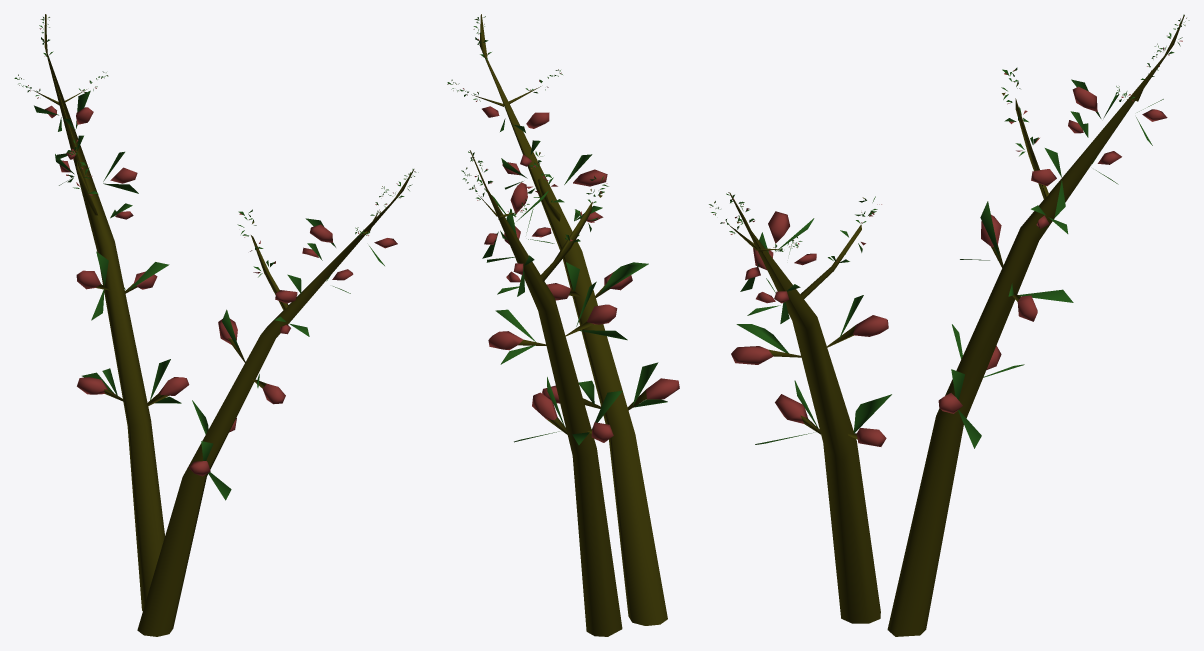
File: SM_Catuaba_001_LOD4.fbx
The picture shows the model from 3 angles, left to right: view 1: azimuth 30°, elevation 25°; view 2: azimuth 150°, elevation 25°; view 3: azimuth 270°, elevation 25°; orthographic projection. The views are drawn at different scales.
Visible parts, largest first — view 1: Catuaba; view 2: Catuaba; view 3: Catuaba.
Boxes of the visible parts, left/top/right/bottom form: Catuaba: left=14, top=14, right=418, bottom=636; Catuaba: left=447, top=14, right=679, bottom=636; Catuaba: left=709, top=14, right=1189, bottom=636.
Bounding box in the file's own units: 27.02 × 55.91 × 39.49.
